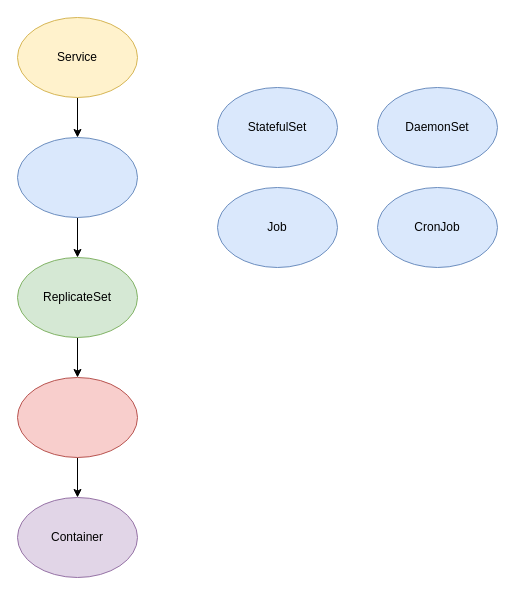
The diagram is 515 pixels wide and 595 high, and some of its shapes have lost their labels. Here are the shapes that lost their labels. From the top down, the centre of each, then its label:
pixel 77 177: Deployment
pixel 77 417: POD
